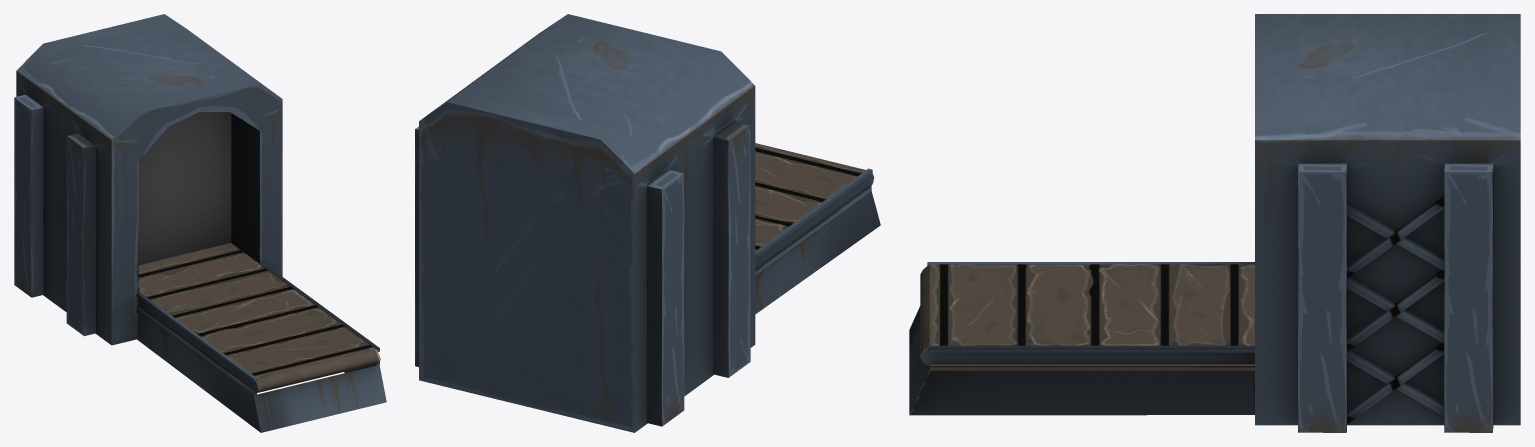
File: Conveyor.fbx
3 views of the same model, side by side, from view 1: azimuth 30°, elevation 25°; view 2: azimuth 150°, elevation 25°; view 3: azimuth 270°, elevation 25° (orthographic). The views are drawn at different scales.
Visible parts, largest first — view 1: polySurface15, polySurface14; view 2: polySurface15, polySurface14; view 3: polySurface15, polySurface14.
Part boxes in pixels (left/top/right/bottom): polySurface15: left=14, top=14, right=386, bottom=432; polySurface14: left=138, top=243, right=380, bottom=393; polySurface15: left=415, top=14, right=880, bottom=432; polySurface14: left=755, top=143, right=865, bottom=250; polySurface15: left=909, top=14, right=1520, bottom=432; polySurface14: left=920, top=264, right=1254, bottom=356.
Size of the model in its own units: 17.87 by 20.03 by 34.77.
